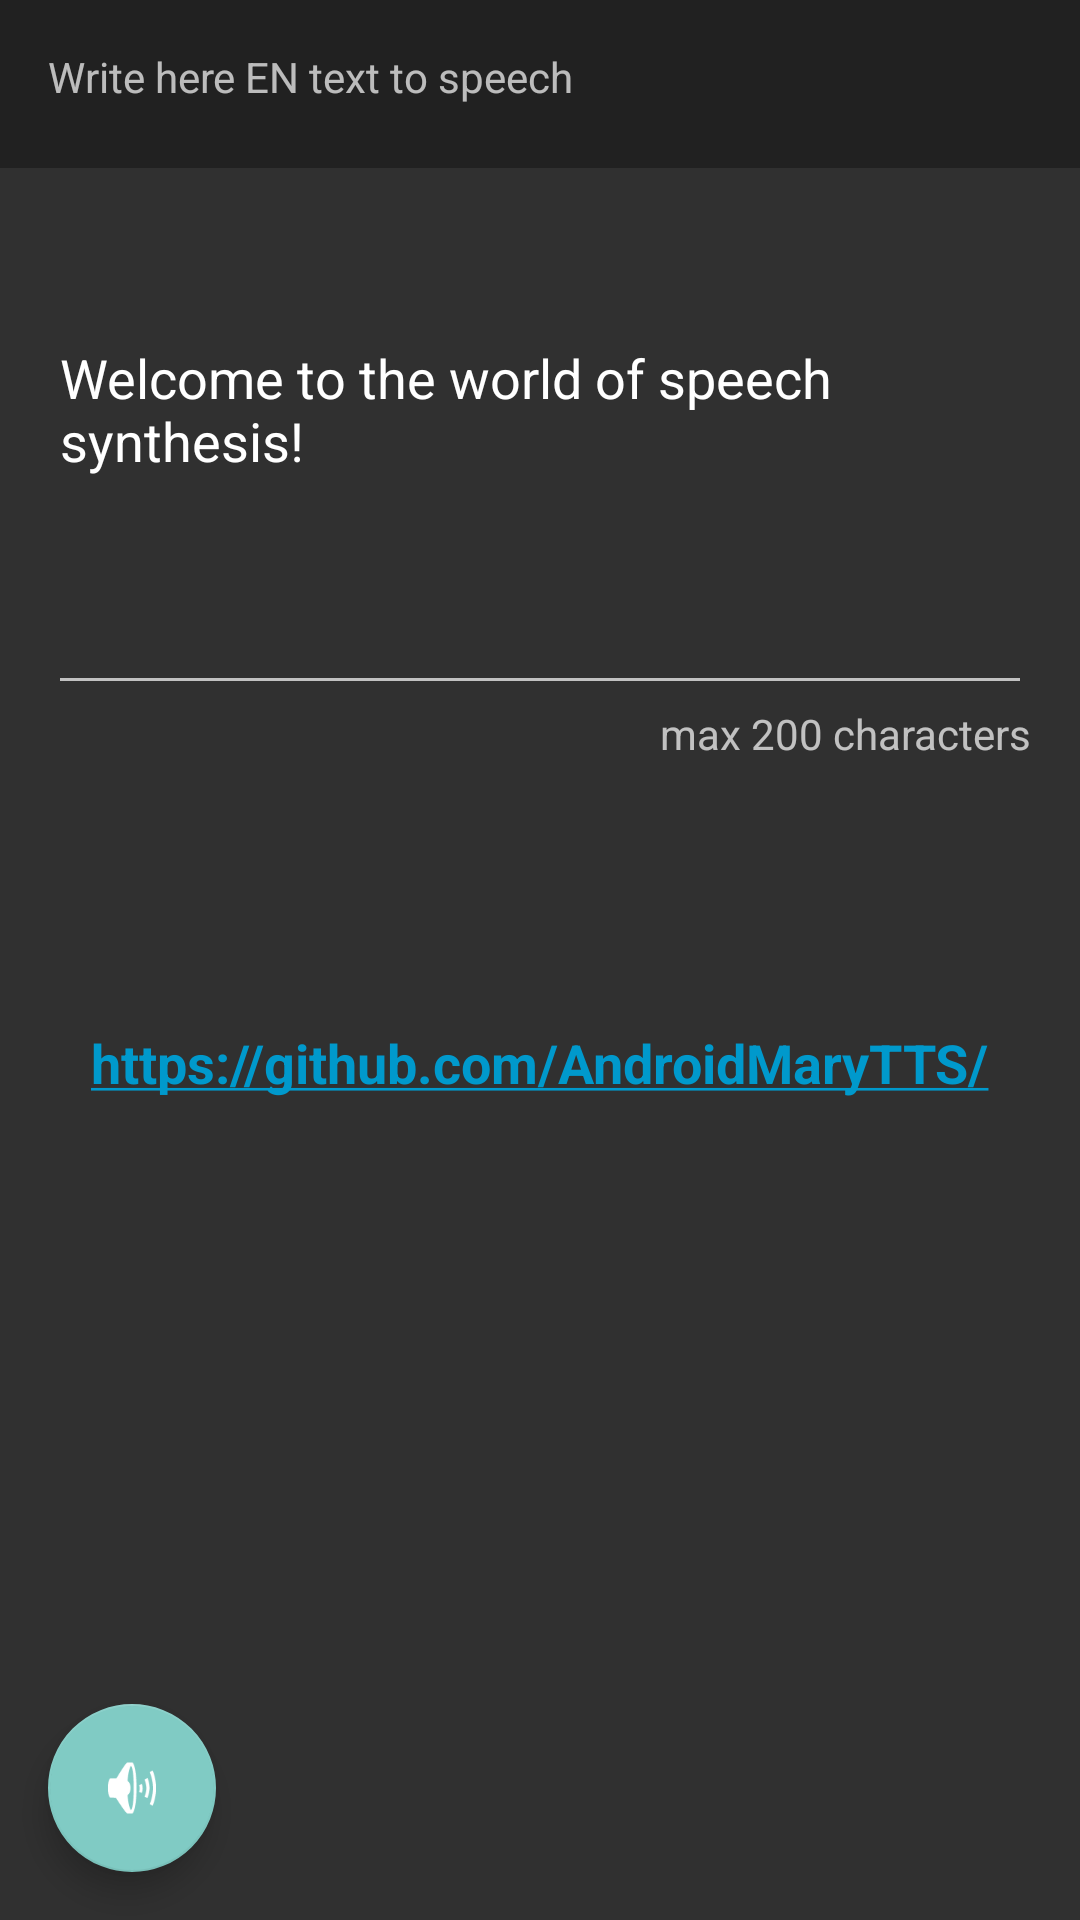

Locate icon controls on the screen. Image size 1080×1920, boxes as detection(x1, y1, x2, y2).
lock silent mode off: detection(48, 1704, 216, 1872)
